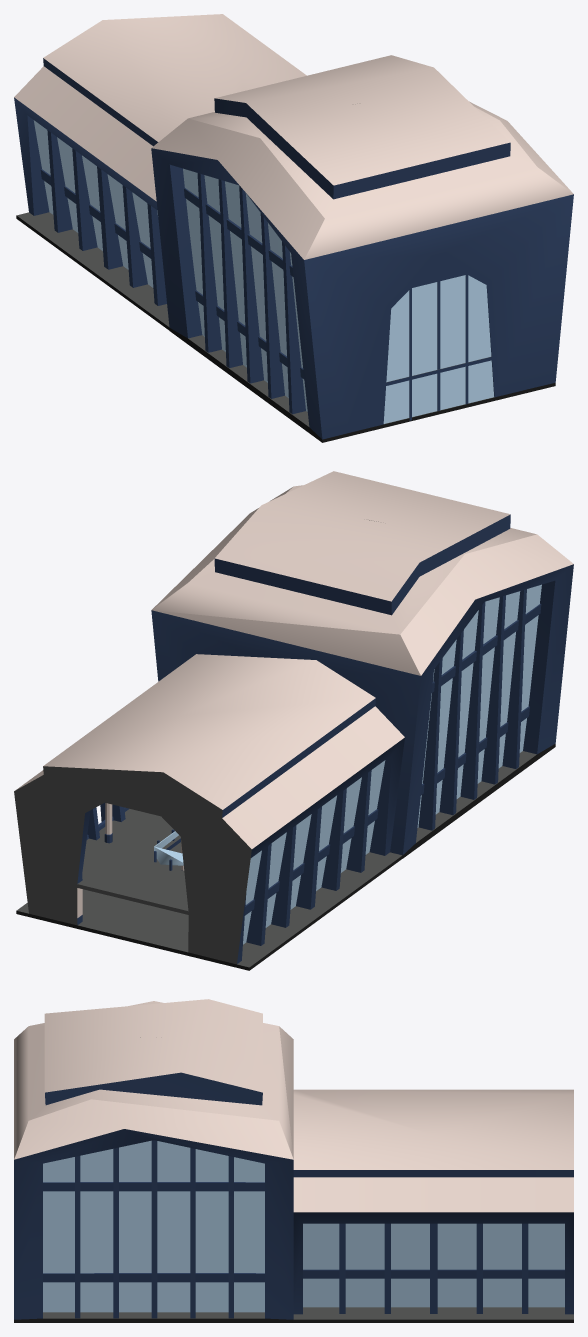
The model's file is terminal_pack2.glb.
The picture shows the model from 3 angles, top to bottom: view 1: azimuth 30°, elevation 25°; view 2: azimuth 150°, elevation 25°; view 3: azimuth 270°, elevation 25°; orthographic projection. The views are drawn at different scales.
Parts seen in each view (by area): view 1: 07.Modulo2_Cube.016; view 2: 07.Modulo2_Cube.016; view 3: 07.Modulo2_Cube.016.
Boxes of the visible parts, box(x1,y1,x2,y2) form: 07.Modulo2_Cube.016: box(14, 14, 573, 442); 07.Modulo2_Cube.016: box(14, 471, 573, 970); 07.Modulo2_Cube.016: box(14, 999, 573, 1322).
Size of the model in its own units: 35.59 by 32.64 by 69.96.
Materials: 1 (1 with a texture image).
